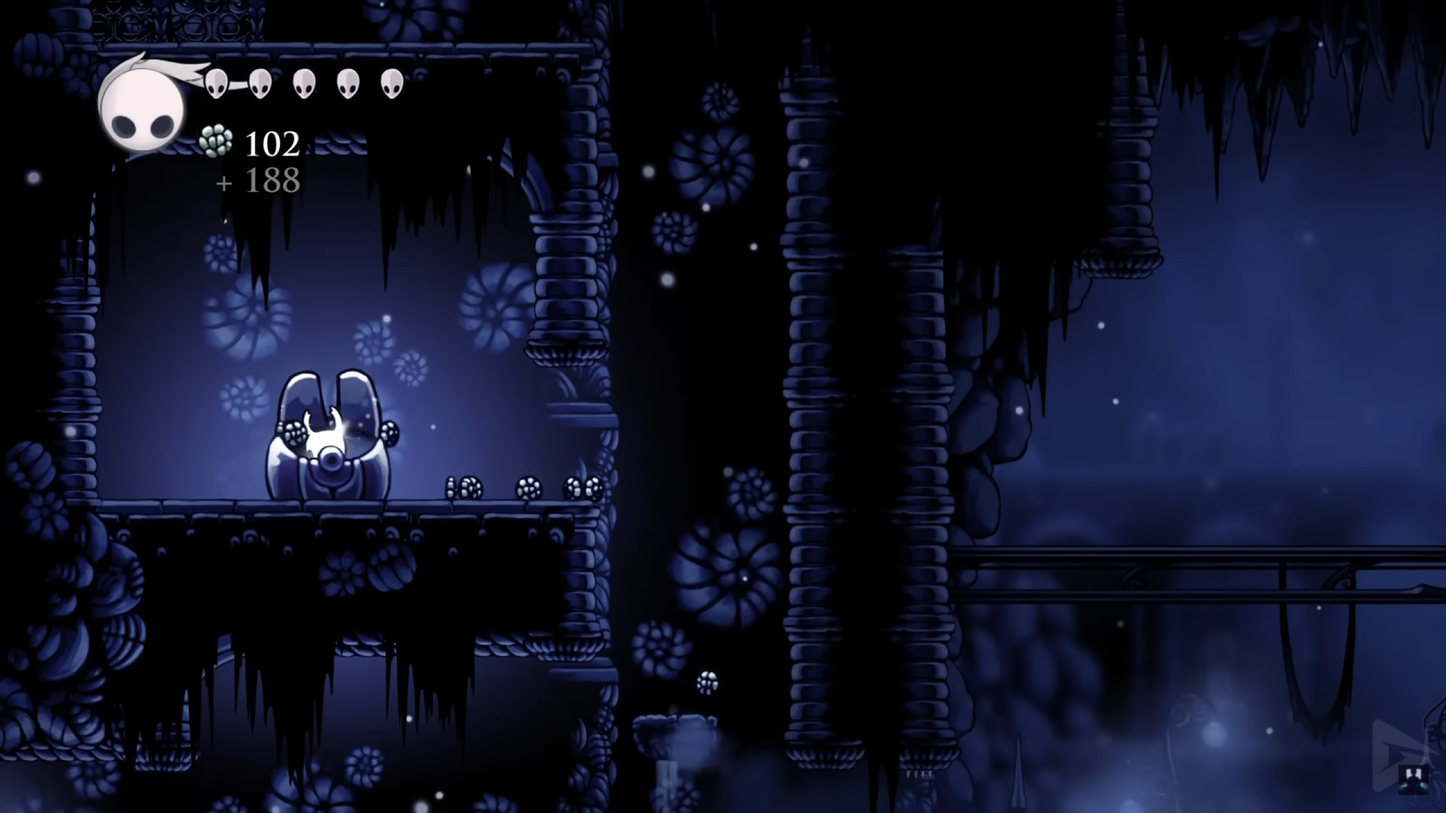HK: (301, 400, 349, 501)
